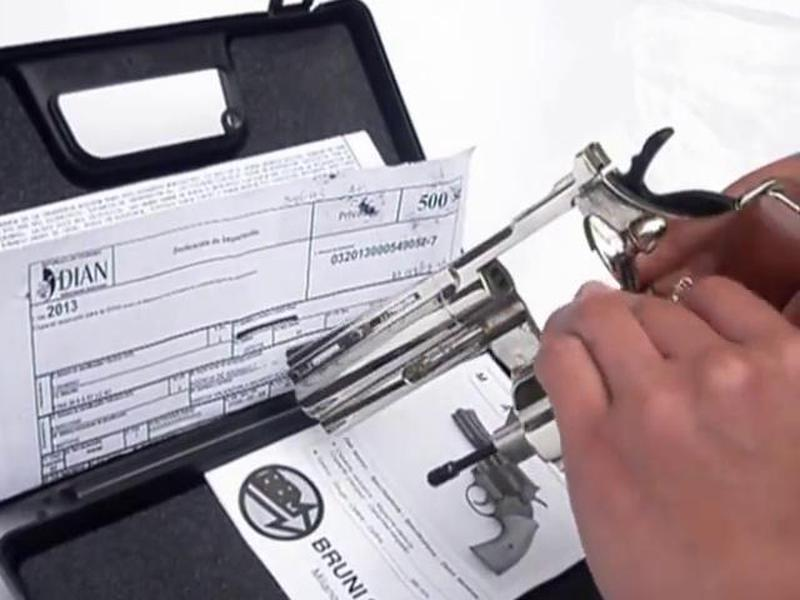Revolver: (253, 136, 800, 442)
